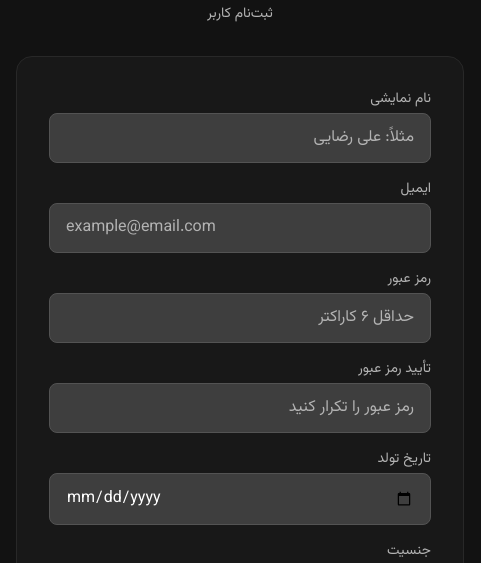
RegisterForm › ۷. رمز عبور ناهمخوان خطا نشان می‌دهد
In the password field with placeholder "حداقل ۶ کاراکتر": [240, 318] box left=49, top=293, right=431, bottom=343, type "pass123"
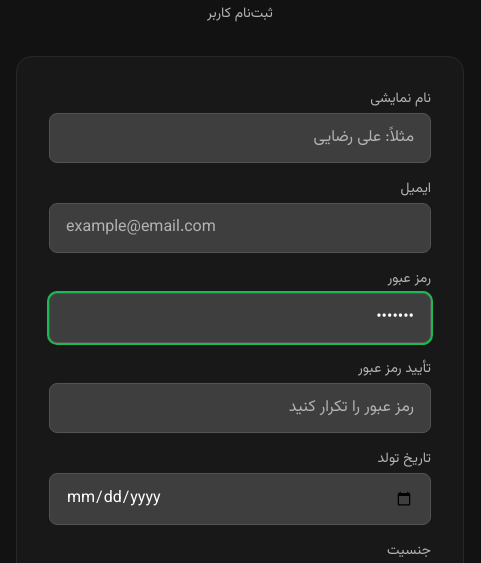
In the password field with placeholder "رمز عبور را تکرار کنید": [240, 408] box left=49, top=383, right=431, bottom=433, type "pass456"
(page scrolled)
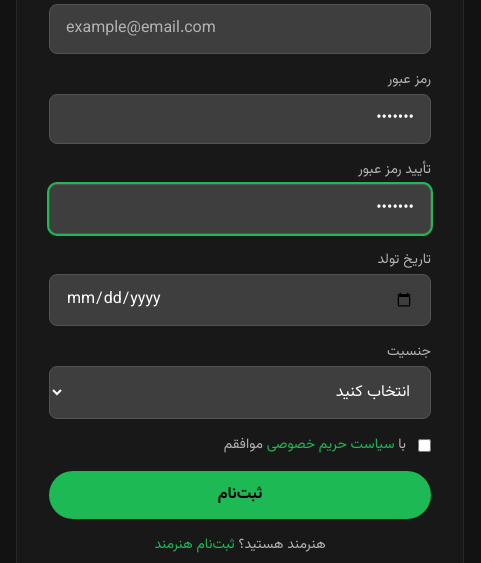
Click the button "ثبت‌نام": [240, 495] box left=49, top=471, right=431, bottom=519
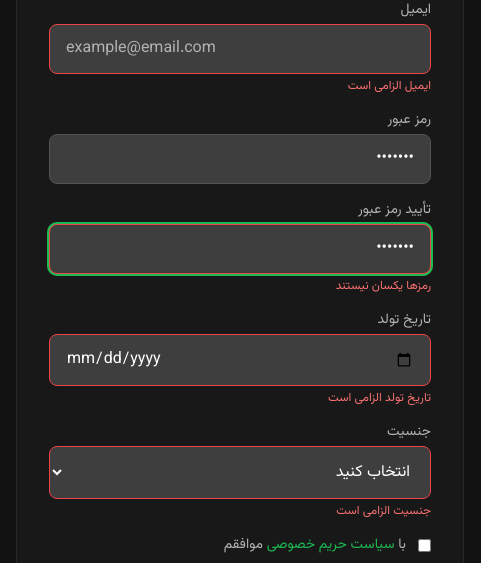
Expected: the text "رمزها یکسان نیستند" is shown, left=336, top=277, right=431, bottom=295
